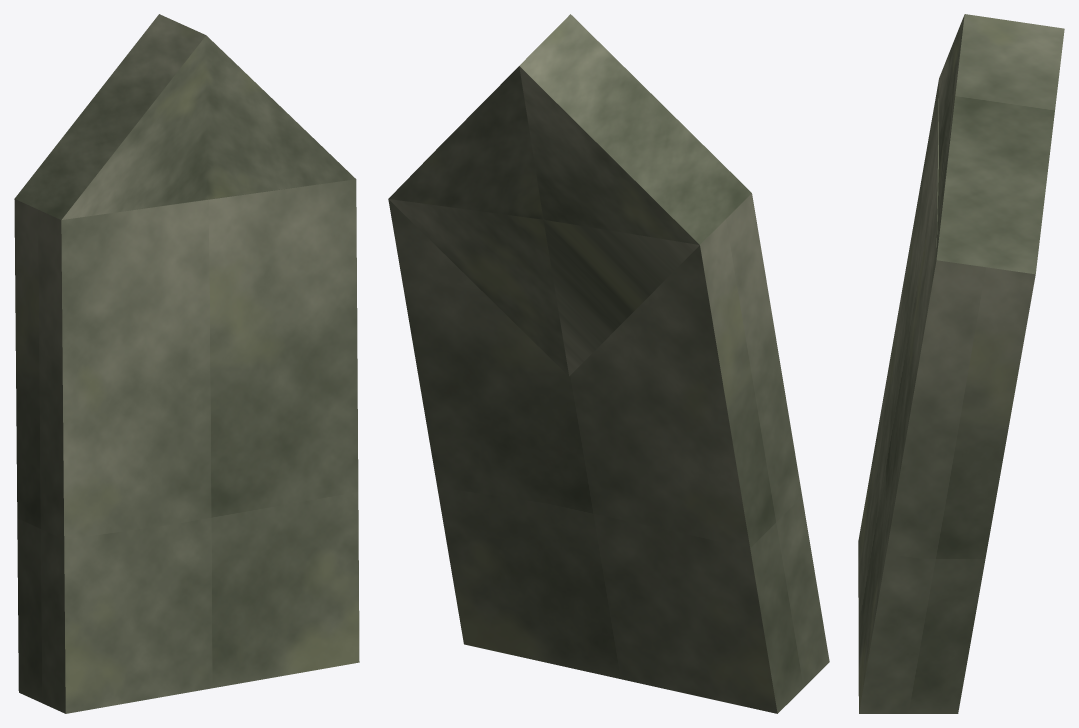
Rendered from Grave_Stone_Old_1_LOD2.gltf.
3 renders of one model, left to right at view 1: azimuth 30°, elevation 25°; view 2: azimuth 150°, elevation 25°; view 3: azimuth 270°, elevation 25°, orthographic. The views are drawn at different scales.
Parts seen in each view (by area): view 1: Grave_Stone_Old_1_LOD2; view 2: Grave_Stone_Old_1_LOD2; view 3: Grave_Stone_Old_1_LOD2.
Boxes of the visible parts, x1,y1,x2,y2 form: Grave_Stone_Old_1_LOD2: (14,14,359,713); Grave_Stone_Old_1_LOD2: (388,14,829,713); Grave_Stone_Old_1_LOD2: (858,14,1064,713).
Bounding box in the file's own units: 0.6317 × 1.13 × 0.3277.
1 material, 1 textured.
